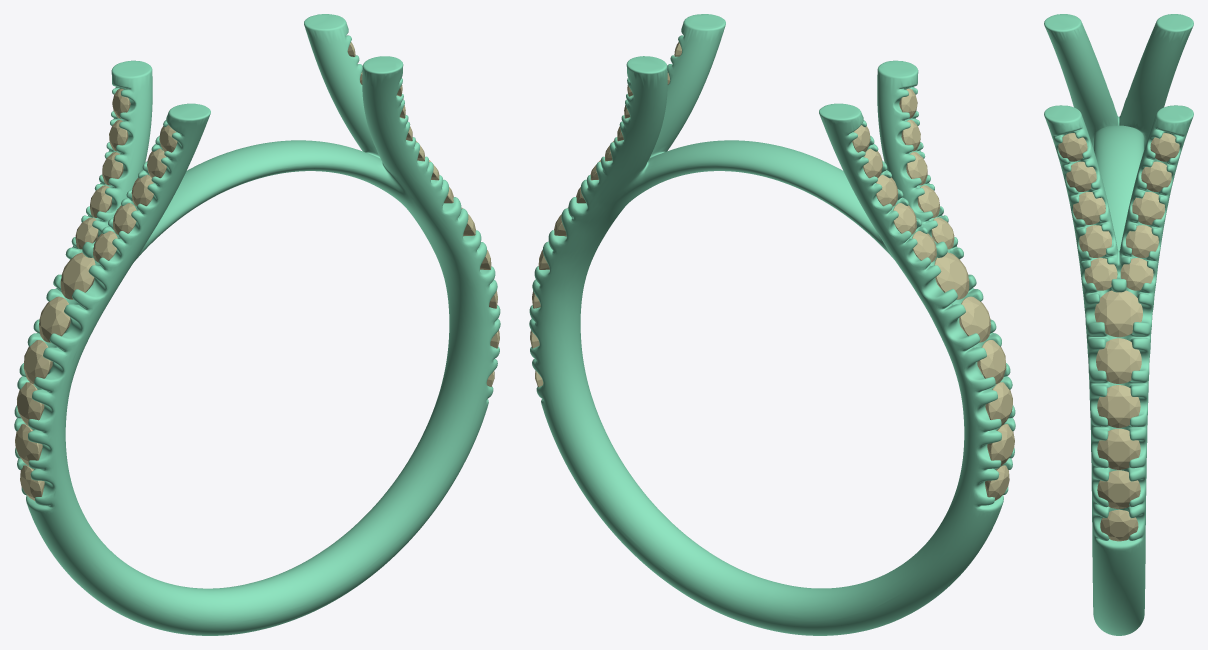
3 renders of one model, left to right at view 1: azimuth 30°, elevation 25°; view 2: azimuth 150°, elevation 25°; view 3: azimuth 270°, elevation 25°, orthographic. The views are drawn at different scales.
Visible parts, largest first — view 1: Metal02, Diamond_Gem.010, Diamond_Gem.011, Diamond_Gem.012, Diamond_Gem.013, Diamond_Gem.014; view 2: Metal02, Diamond_Gem.010, Diamond_Gem.011, Diamond_Gem.012, Diamond_Gem.013, Diamond_Gem.014; view 3: Metal02, Diamond_Gem.021, Diamond_Gem.020, Diamond_Gem.019, Diamond_Gem.018, Diamond_Gem.017, Diamond_Gem.016, Diamond_Gem.028, Diamond_Gem.025, Diamond_Gem.024, Diamond_Gem.027, Diamond_Gem.029 (+5 smaller).
Part boxes in pixels (x1,y1,x2,y2): Metal02: (14,14,500,635); Diamond_Gem.010: (60,252,95,299); Diamond_Gem.011: (39,296,70,342); Diamond_Gem.012: (23,340,52,384); Diamond_Gem.013: (17,382,44,425); Diamond_Gem.014: (15,424,42,465); Metal02: (529,14,1015,635); Diamond_Gem.010: (934,252,969,299); Diamond_Gem.011: (959,296,990,342); Diamond_Gem.012: (977,340,1006,384); Diamond_Gem.013: (985,382,1012,425); Diamond_Gem.014: (987,424,1014,466); Metal02: (1044,14,1193,635); Diamond_Gem.021: (1094,290,1142,337); Diamond_Gem.020: (1096,338,1141,383); Diamond_Gem.019: (1097,385,1140,427); Diamond_Gem.018: (1097,428,1140,469); Diamond_Gem.017: (1097,470,1140,508); Diamond_Gem.016: (1100,509,1138,541); Diamond_Gem.028: (1126,225,1158,257); Diamond_Gem.025: (1079,225,1111,257); Diamond_Gem.024: (1073,192,1105,224); Diamond_Gem.027: (1120,258,1153,290); Diamond_Gem.029: (1132,192,1165,224).
Bounding box in the file's own units: 20.85 × 23.59 × 5.89.
